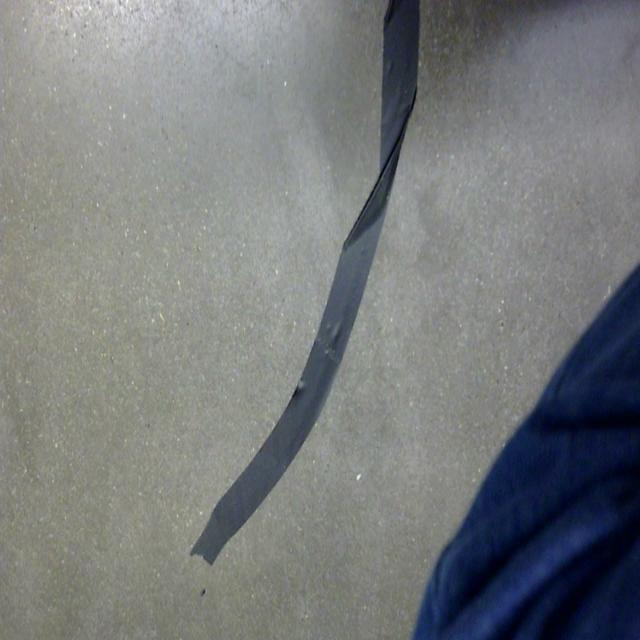tape: (176, 0, 439, 590)
